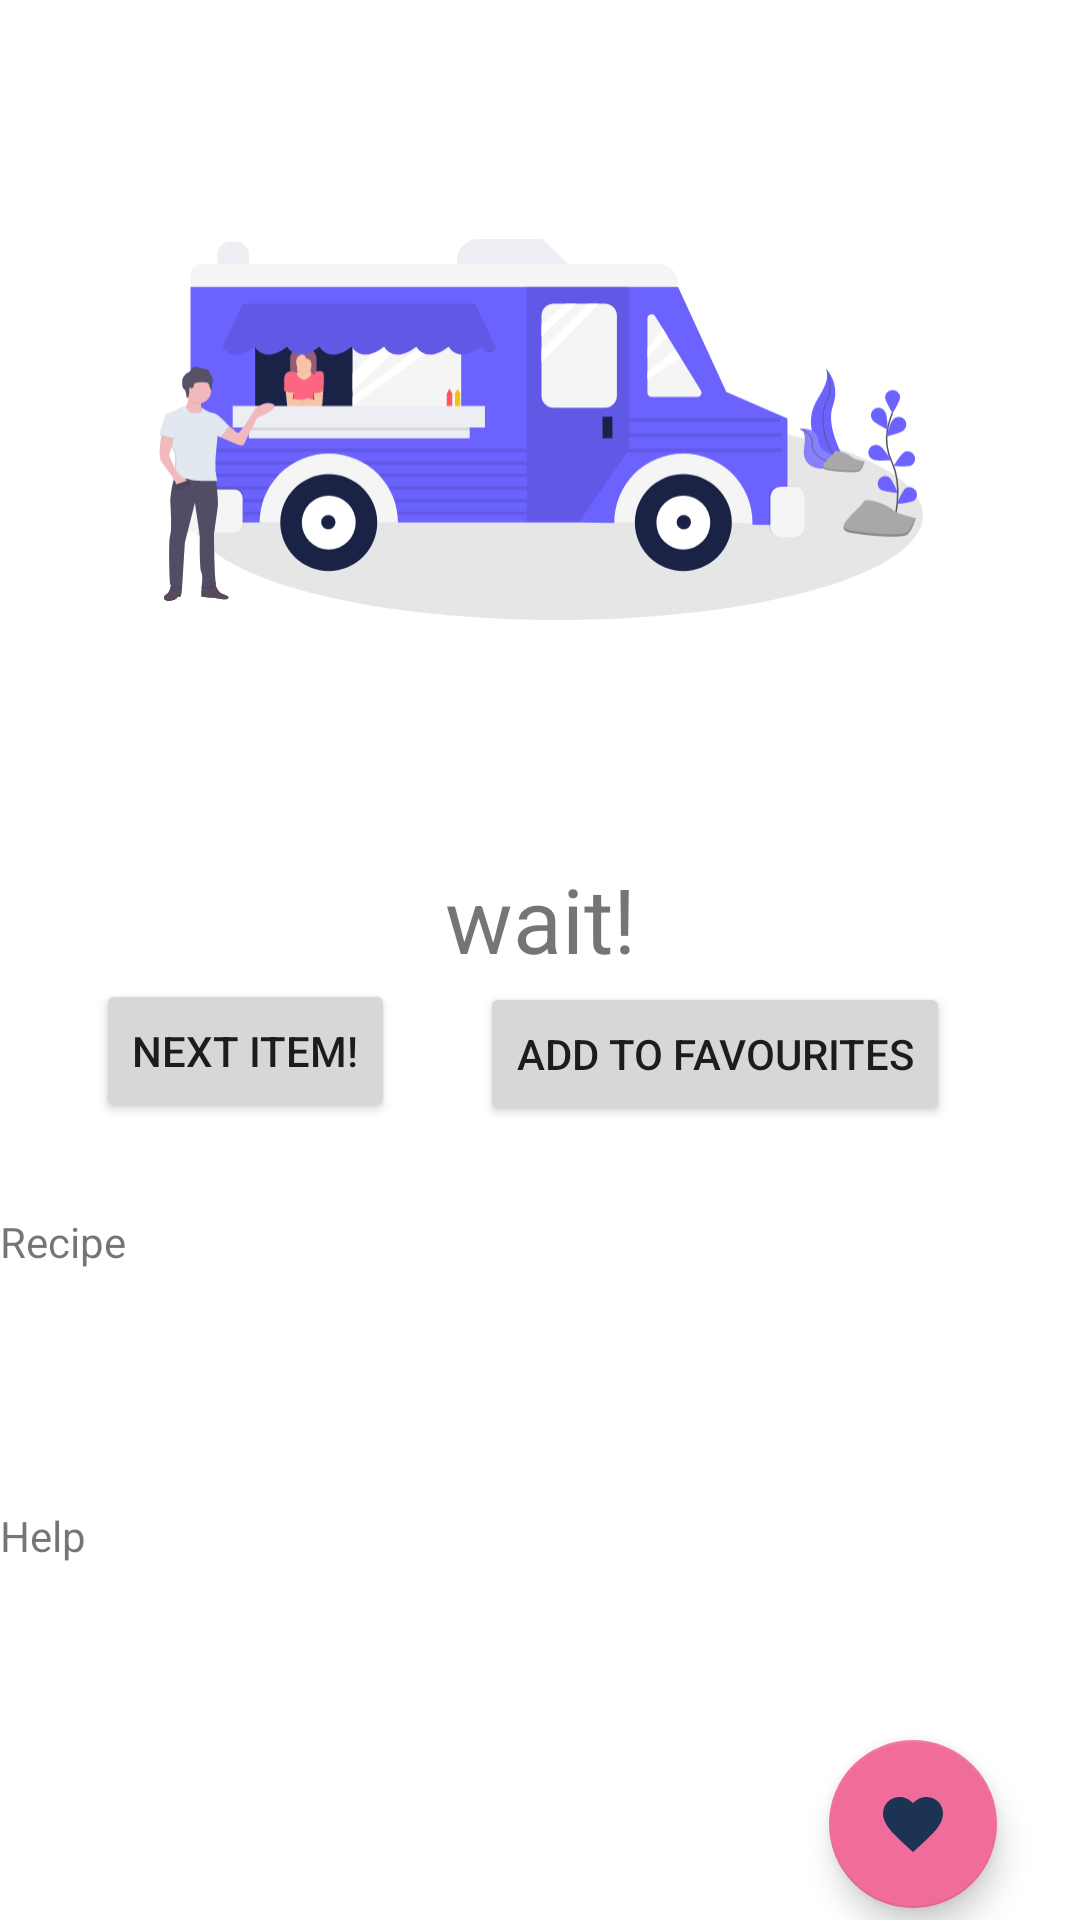

Icon click points for this 1080px x 1920px phone screenshot, format point (x, y):
favorite: point (913, 1824)
